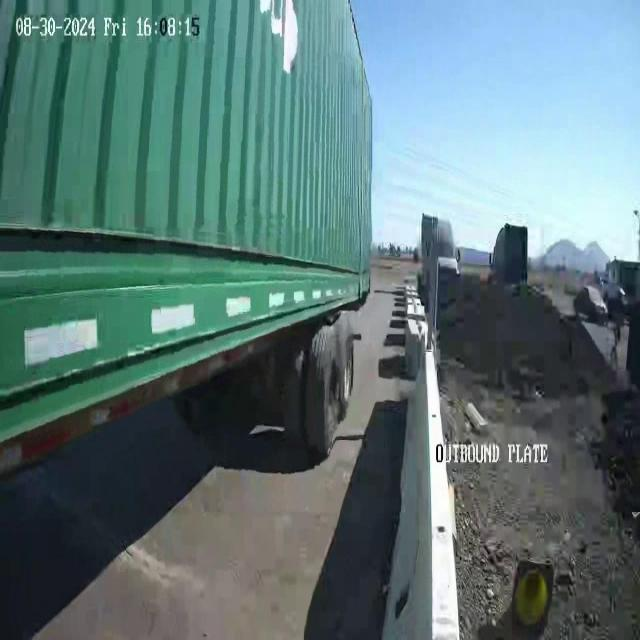TRUCK_OUT: (0, 0, 374, 414)
